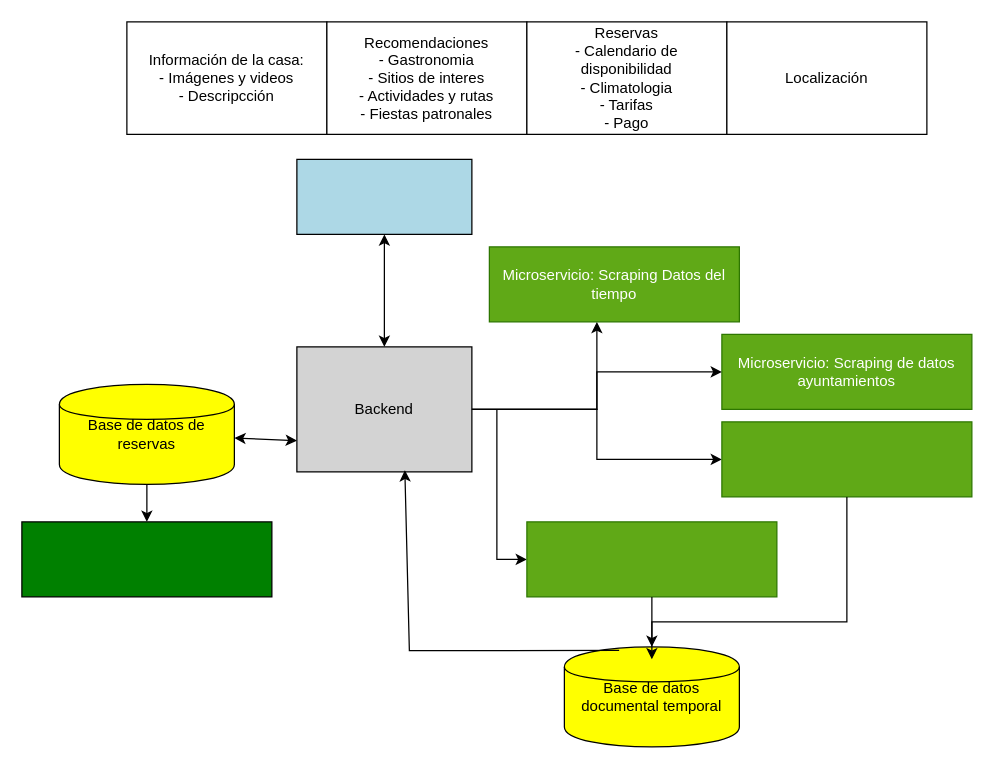
Some shapes in this 994 by 769 pixel diagram are drawn without their labels. Each missing label, with the centre of its shape:
Envío de correos de confirmación: point (146, 559)
Frontend: point (384, 196)
Microservicio: Extracción de imágenes API Instagram: point (651, 559)
Microservicio: Extracción de rutas API Aplicación de rutas: point (846, 459)
